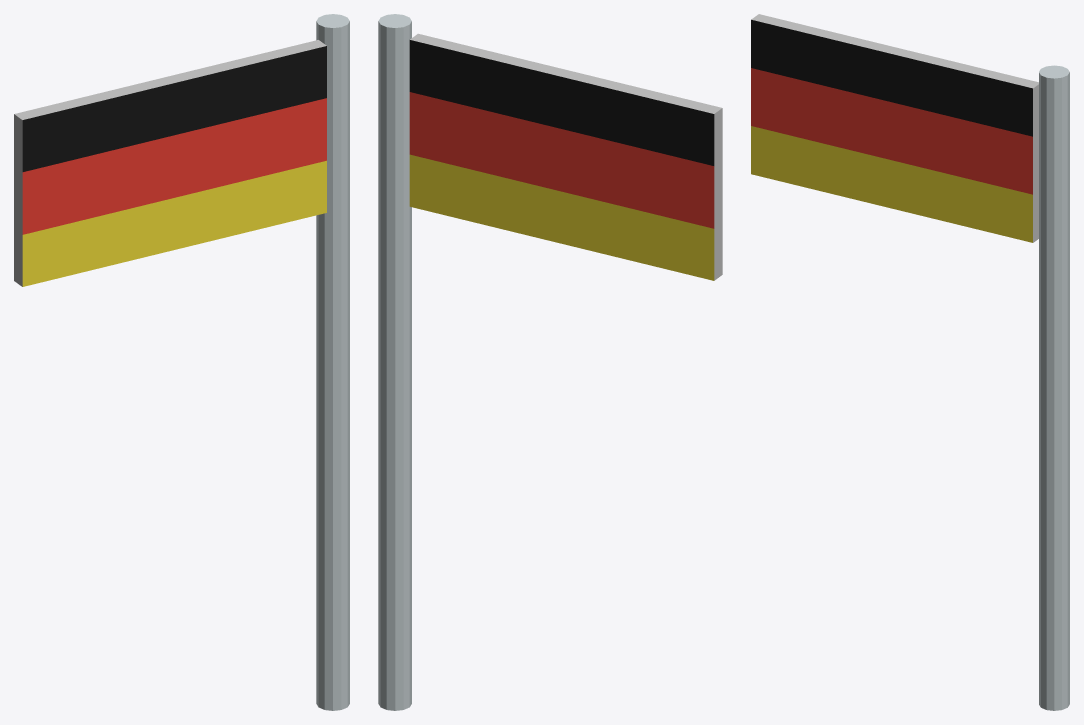
The model's file is germanFlag.obj.
3 views of the same model, side by side, from view 1: azimuth 30°, elevation 25°; view 2: azimuth 150°, elevation 25°; view 3: azimuth 330°, elevation 25° (orthographic). The views are drawn at different scales.
Parts seen in each view (by area): view 1: group1449568454, group1730482214; view 2: group1449568454, group1730482214; view 3: group1449568454, group1730482214.
Part boxes in pixels (x1,y1,x2,y2): group1449568454: [14, 40, 326, 286]; group1730482214: [316, 14, 349, 710]; group1449568454: [409, 33, 722, 280]; group1730482214: [378, 14, 411, 710]; group1449568454: [751, 14, 1038, 242]; group1730482214: [1039, 65, 1069, 710].
Bounding box in the file's own units: 0.23 × 0.45 × 0.02.
